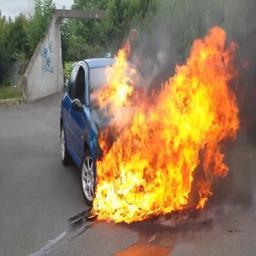fire: (92, 26, 240, 223)
